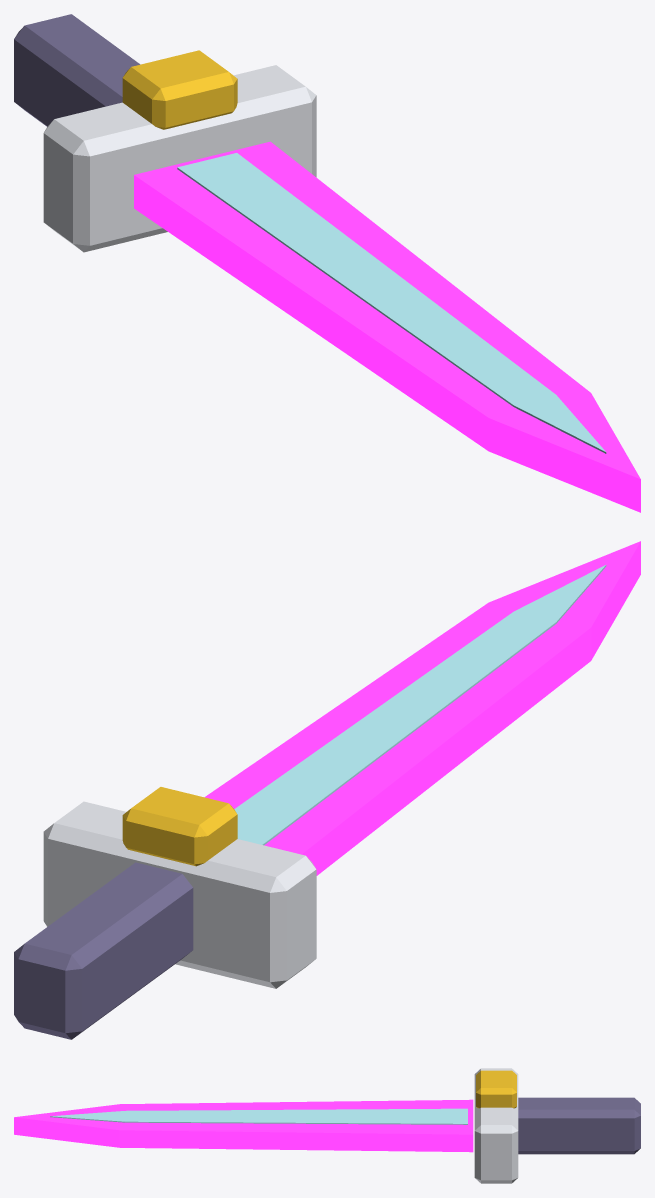
File: Future_Sword_v001.fbx
3 renders of one model, top to bottom at view 1: azimuth 30°, elevation 25°; view 2: azimuth 150°, elevation 25°; view 3: azimuth 270°, elevation 25°, orthographic. The views are drawn at different scales.
Parts seen in each view (by area): view 1: Future_Sword__RECEIVER_MESH; view 2: Future_Sword__RECEIVER_MESH; view 3: Future_Sword__RECEIVER_MESH.
Part boxes in pixels (box(x1,y1,x2,y2)): Future_Sword__RECEIVER_MESH: box(14, 14, 640, 512); Future_Sword__RECEIVER_MESH: box(14, 541, 640, 1039); Future_Sword__RECEIVER_MESH: box(14, 1068, 640, 1183).
Size of the model in its own units: 0.57 by 0.325 by 2.43.
